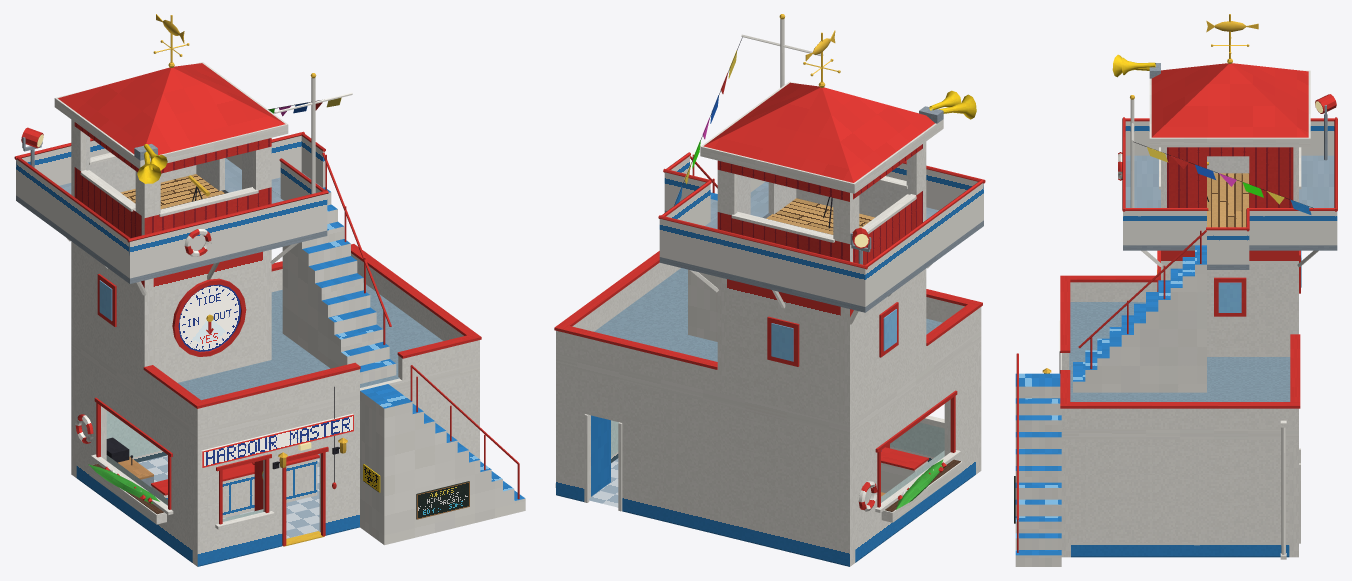
The model's file is p_pj_harbour.glb.
The picture shows the model from 3 angles, left to right: view 1: azimuth 30°, elevation 25°; view 2: azimuth 150°, elevation 25°; view 3: azimuth 270°, elevation 25°; orthographic projection. The views are drawn at different scales.
Parts seen in each view (by area): view 1: p_pj_harbour_lod0; view 2: p_pj_harbour_lod0; view 3: p_pj_harbour_lod0.
Boxes of the visible parts, box(x1,y1,x2,y2) form: p_pj_harbour_lod0: box(14, 14, 525, 566); p_pj_harbour_lod0: box(554, 14, 985, 566); p_pj_harbour_lod0: box(1014, 14, 1337, 566).
Size of what is drawn, in the model's own units: 9.63 by 12.75 by 8.45.
Materials: 2 (2 with a texture image).
